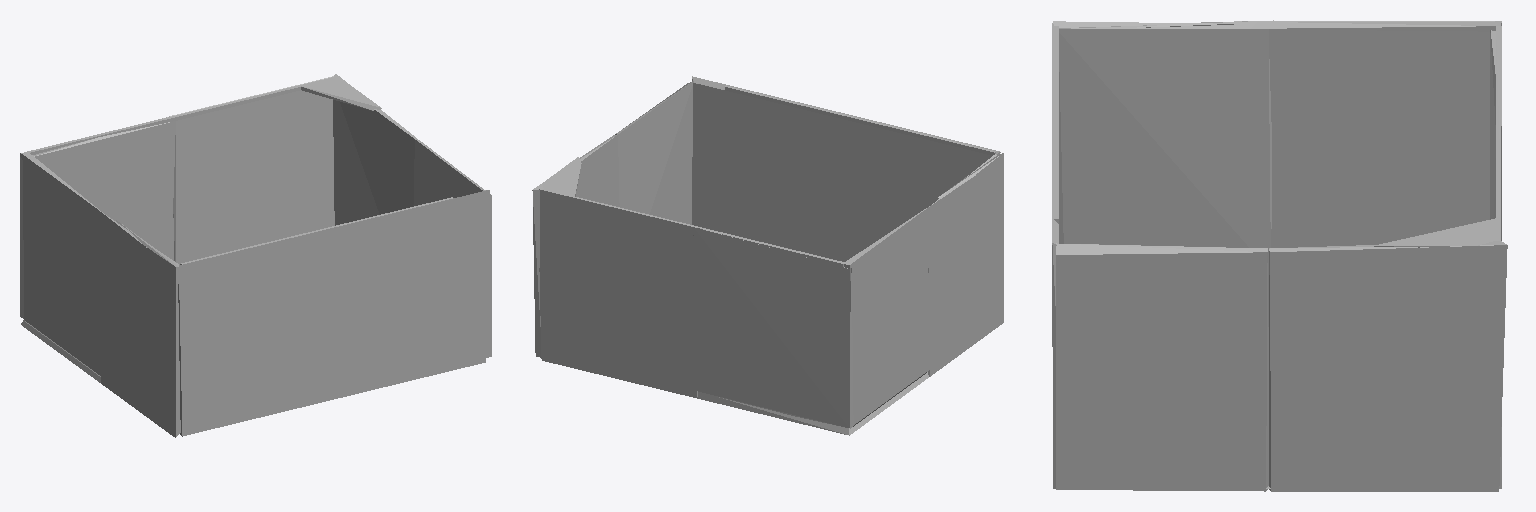
The robot description file, URDF, robot "root":
<robot name="root">
  <link name="link_openbox_convex_piece_0">

    <contact>
      <lateral_friction value="1.0"/>
      <rolling_friction value="0.0"/>
      <inertia_scaling value="3.0"/>
      <contact_cfm value="0.0"/>
      <contact_erp value="1.0"/>
    </contact>

    <inertial>
      <origin rpy="0 0 0" xyz="0 0 0"/>
      <mass value="0"/>
      <inertia ixx="-4.46E-06" ixy="-4.55E-07" ixz="1.95E-06" iyy="-2.47E-06" iyz="8.51E-08" izz="2.17E-06"/>
    </inertial>
    <visual>
      <origin rpy="0 0 0" xyz="0 0 0"/>
      <geometry>
        <mesh filename="openbox_convex_piece_0.obj" scale="1.0000E+00 1.0000E+00 1.0000E+00"/>
      </geometry>
      <material name="">
        <color rgba="7.50E-01 7.50E-01 7.50E-01 1"/>
      </material>
    </visual>
    <collision>
      <origin rpy="0 0 0" xyz="0 0 0"/>
      <geometry>
        <mesh filename="openbox_convex_piece_0.obj" scale="1.0000E+00 1.0000E+00 1.0000E+00"/>
      </geometry>
    </collision>
  </link>
  <link name="link_openbox_convex_piece_1">
    <inertial>
      <origin rpy="0 0 0" xyz="0 0 0"/>
      <mass value="8.54E-11"/>
      <inertia ixx="-3.41E-07" ixy="-9.73E-07" ixz="3.02E-06" iyy="1.82E-07" iyz="-1.06E-06" izz="2.38E-06"/>
    </inertial>
    <visual>
      <origin rpy="0 0 0" xyz="0 0 0"/>
      <geometry>
        <mesh filename="openbox_convex_piece_1.obj" scale="1.0000E+00 1.0000E+00 1.0000E+00"/>
      </geometry>
      <material name="">
        <color rgba="7.50E-01 7.50E-01 7.50E-01 1"/>
      </material>
    </visual>
    <collision>
      <origin rpy="0 0 0" xyz="0 0 0"/>
      <geometry>
        <mesh filename="openbox_convex_piece_1.obj" scale="1.0000E+00 1.0000E+00 1.0000E+00"/>
      </geometry>
    </collision>
  </link>
  <joint name="link_openbox_convex_piece_1_joint" type="fixed">
    <origin rpy="0 0 0" xyz="0 0 0"/>
    <parent link="link_openbox_convex_piece_0"/>
    <child link="link_openbox_convex_piece_1"/>
  </joint>

  <link name="link_openbox_convex_piece_3">
    <inertial>
      <origin rpy="0 0 0" xyz="0 0 0"/>
      <mass value="9.26E-11"/>
      <inertia ixx="6.00E-06" ixy="-7.64E-06" ixz="1.70E-06" iyy="3.52E-06" iyz="-2.53E-07" izz="1.51E-05"/>
    </inertial>
    <visual>
      <origin rpy="0 0 0" xyz="0 0 0"/>
      <geometry>
        <mesh filename="openbox_convex_piece_3.obj" scale="1.0000E+00 1.0000E+00 1.0000E+00"/>
      </geometry>
      <material name="">
        <color rgba="7.50E-01 7.50E-01 7.50E-01 1"/>
      </material>
    </visual>
    <collision>
      <origin rpy="0 0 0" xyz="0 0 0"/>
      <geometry>
        <mesh filename="openbox_convex_piece_3.obj" scale="1.0000E+00 1.0000E+00 1.0000E+00"/>
      </geometry>
    </collision>
  </link>
  <joint name="link_openbox_convex_piece_3_joint" type="fixed">
    <origin rpy="0 0 0" xyz="0 0 0"/>
    <parent link="link_openbox_convex_piece_1"/>
    <child link="link_openbox_convex_piece_3"/>
  </joint>
  <link name="link_openbox_convex_piece_4">
    <inertial>
      <origin rpy="0 0 0" xyz="0 0 0"/>
      <mass value="1.62E-10"/>
      <inertia ixx="1.40E-05" ixy="-7.57E-06" ixz="6.10E-06" iyy="9.20E-07" iyz="-7.28E-06" izz="1.99E-05"/>
    </inertial>
    <visual>
      <origin rpy="0 0 0" xyz="0 0 0"/>
      <geometry>
        <mesh filename="openbox_convex_piece_4.obj" scale="1.0000E+00 1.0000E+00 1.0000E+00"/>
      </geometry>
      <material name="">
        <color rgba="7.50E-01 7.50E-01 7.50E-01 1"/>
      </material>
    </visual>
    <collision>
      <origin rpy="0 0 0" xyz="0 0 0"/>
      <geometry>
        <mesh filename="openbox_convex_piece_4.obj" scale="1.0000E+00 1.0000E+00 1.0000E+00"/>
      </geometry>
    </collision>
  </link>
  <joint name="link_openbox_convex_piece_4_joint" type="fixed">
    <origin rpy="0 0 0" xyz="0 0 0"/>
    <parent link="link_openbox_convex_piece_3"/>
    <child link="link_openbox_convex_piece_4"/>
  </joint>
  <link name="link_openbox_convex_piece_5">
    <inertial>
      <origin rpy="0 0 0" xyz="0 0 0"/>
      <mass value="8.19E-11"/>
      <inertia ixx="-3.14E-07" ixy="8.84E-07" ixz="-1.99E-07" iyy="-5.76E-08" iyz="-1.02E-06" izz="2.07E-06"/>
    </inertial>
    <visual>
      <origin rpy="0 0 0" xyz="0 0 0"/>
      <geometry>
        <mesh filename="openbox_convex_piece_5.obj" scale="1.0000E+00 1.0000E+00 1.0000E+00"/>
      </geometry>
      <material name="">
        <color rgba="7.50E-01 7.50E-01 7.50E-01 1"/>
      </material>
    </visual>
    <collision>
      <origin rpy="0 0 0" xyz="0 0 0"/>
      <geometry>
        <mesh filename="openbox_convex_piece_5.obj" scale="1.0000E+00 1.0000E+00 1.0000E+00"/>
      </geometry>
    </collision>
  </link>
  <joint name="link_openbox_convex_piece_5_joint" type="fixed">
    <origin rpy="0 0 0" xyz="0 0 0"/>
    <parent link="link_openbox_convex_piece_4"/>
    <child link="link_openbox_convex_piece_5"/>
  </joint>
  <link name="link_openbox_convex_piece_6">
    <inertial>
      <origin rpy="0 0 0" xyz="0 0 0"/>
      <mass value="4.02E-12"/>
      <inertia ixx="6.30E-07" ixy="-6.57E-08" ixz="4.44E-08" iyy="-3.40E-08" iyz="2.11E-07" izz="7.64E-07"/>
    </inertial>
    <visual>
      <origin rpy="0 0 0" xyz="0 0 0"/>
      <geometry>
        <mesh filename="openbox_convex_piece_6.obj" scale="1.0000E+00 1.0000E+00 1.0000E+00"/>
      </geometry>
      <material name="">
        <color rgba="7.50E-01 7.50E-01 7.50E-01 1"/>
      </material>
    </visual>
    <collision>
      <origin rpy="0 0 0" xyz="0 0 0"/>
      <geometry>
        <mesh filename="openbox_convex_piece_6.obj" scale="1.0000E+00 1.0000E+00 1.0000E+00"/>
      </geometry>
    </collision>
  </link>
  <joint name="link_openbox_convex_piece_6_joint" type="fixed">
    <origin rpy="0 0 0" xyz="0 0 0"/>
    <parent link="link_openbox_convex_piece_5"/>
    <child link="link_openbox_convex_piece_6"/>
  </joint>
  <link name="link_openbox_convex_piece_7">
    <inertial>
      <origin rpy="0 0 0" xyz="0 0 0"/>
      <mass value="1.64E-10"/>
      <inertia ixx="2.41E-05" ixy="7.88E-06" ixz="2.12E-06" iyy="-2.86E-06" iyz="-1.78E-06" izz="3.10E-05"/>
    </inertial>
    <visual>
      <origin rpy="0 0 0" xyz="0 0 0"/>
      <geometry>
        <mesh filename="openbox_convex_piece_7.obj" scale="1.0000E+00 1.0000E+00 1.0000E+00"/>
      </geometry>
      <material name="">
        <color rgba="7.50E-01 7.50E-01 7.50E-01 1"/>
      </material>
    </visual>
    <collision>
      <origin rpy="0 0 0" xyz="0 0 0"/>
      <geometry>
        <mesh filename="openbox_convex_piece_7.obj" scale="1.0000E+00 1.0000E+00 1.0000E+00"/>
      </geometry>
    </collision>
  </link>
  <joint name="link_openbox_convex_piece_7_joint" type="fixed">
    <origin rpy="0 0 0" xyz="0 0 0"/>
    <parent link="link_openbox_convex_piece_6"/>
    <child link="link_openbox_convex_piece_7"/>
  </joint>
  <link name="link_openbox_convex_piece_8">
    <inertial>
      <origin rpy="0 0 0" xyz="0 0 0"/>
      <mass value="6.57E-12"/>
      <inertia ixx="8.20E-07" ixy="5.85E-07" ixz="2.96E-07" iyy="1.80E-07" iyz="3.11E-07" izz="1.27E-06"/>
    </inertial>
    <visual>
      <origin rpy="0 0 0" xyz="0 0 0"/>
      <geometry>
        <mesh filename="openbox_convex_piece_8.obj" scale="1.0000E+00 1.0000E+00 1.0000E+00"/>
      </geometry>
      <material name="">
        <color rgba="7.50E-01 7.50E-01 7.50E-01 1"/>
      </material>
    </visual>
    <collision>
      <origin rpy="0 0 0" xyz="0 0 0"/>
      <geometry>
        <mesh filename="openbox_convex_piece_8.obj" scale="1.0000E+00 1.0000E+00 1.0000E+00"/>
      </geometry>
    </collision>
  </link>
  <joint name="link_openbox_convex_piece_8_joint" type="fixed">
    <origin rpy="0 0 0" xyz="0 0 0"/>
    <parent link="link_openbox_convex_piece_7"/>
    <child link="link_openbox_convex_piece_8"/>
  </joint>
  <link name="link_openbox_convex_piece_9">
    <inertial>
      <origin rpy="0 0 0" xyz="0 0 0"/>
      <mass value="1.60E-10"/>
      <inertia ixx="-3.20E-06" ixy="-3.40E-06" ixz="3.28E-06" iyy="5.91E-06" iyz="-2.59E-07" izz="1.23E-05"/>
    </inertial>
    <visual>
      <origin rpy="0 0 0" xyz="0 0 0"/>
      <geometry>
        <mesh filename="openbox_convex_piece_9.obj" scale="1.0000E+00 1.0000E+00 1.0000E+00"/>
      </geometry>
      <material name="">
        <color rgba="7.50E-01 7.50E-01 7.50E-01 1"/>
      </material>
    </visual>
    <collision>
      <origin rpy="0 0 0" xyz="0 0 0"/>
      <geometry>
        <mesh filename="openbox_convex_piece_9.obj" scale="1.0000E+00 1.0000E+00 1.0000E+00"/>
      </geometry>
    </collision>
  </link>
  <joint name="link_openbox_convex_piece_9_joint" type="fixed">
    <origin rpy="0 0 0" xyz="0 0 0"/>
    <parent link="link_openbox_convex_piece_8"/>
    <child link="link_openbox_convex_piece_9"/>
  </joint>
  <link name="link_openbox_convex_piece_10">
    <inertial>
      <origin rpy="0 0 0" xyz="0 0 0"/>
      <mass value="3.92E-12"/>
      <inertia ixx="-7.91E-08" ixy="3.61E-09" ixz="4.47E-08" iyy="-3.50E-08" iyz="-1.25E-08" izz="4.93E-08"/>
    </inertial>
    <visual>
      <origin rpy="0 0 0" xyz="0 0 0"/>
      <geometry>
        <mesh filename="openbox_convex_piece_10.obj" scale="1.0000E+00 1.0000E+00 1.0000E+00"/>
      </geometry>
      <material name="">
        <color rgba="7.50E-01 7.50E-01 7.50E-01 1"/>
      </material>
    </visual>
    <collision>
      <origin rpy="0 0 0" xyz="0 0 0"/>
      <geometry>
        <mesh filename="openbox_convex_piece_10.obj" scale="1.0000E+00 1.0000E+00 1.0000E+00"/>
      </geometry>
    </collision>
  </link>
  <joint name="link_openbox_convex_piece_10_joint" type="fixed">
    <origin rpy="0 0 0" xyz="0 0 0"/>
    <parent link="link_openbox_convex_piece_9"/>
    <child link="link_openbox_convex_piece_10"/>
  </joint>

  <link name="link_openbox_convex_piece_12">
    <inertial>
      <origin rpy="0 0 0" xyz="0 0 0"/>
      <mass value="3.17E-12"/>
      <inertia ixx="2.64E-07" ixy="-2.72E-07" ixz="-5.69E-08" iyy="1.47E-07" iyz="1.24E-07" izz="5.44E-07"/>
    </inertial>
    <visual>
      <origin rpy="0 0 0" xyz="0 0 0"/>
      <geometry>
        <mesh filename="openbox_convex_piece_12.obj" scale="1.0000E+00 1.0000E+00 1.0000E+00"/>
      </geometry>
      <material name="">
        <color rgba="7.50E-01 7.50E-01 7.50E-01 1"/>
      </material>
    </visual>
    <collision>
      <origin rpy="0 0 0" xyz="0 0 0"/>
      <geometry>
        <mesh filename="openbox_convex_piece_12.obj" scale="1.0000E+00 1.0000E+00 1.0000E+00"/>
      </geometry>
    </collision>
  </link>
  <joint name="link_openbox_convex_piece_12_joint" type="fixed">
    <origin rpy="0 0 0" xyz="0 0 0"/>
    <parent link="link_openbox_convex_piece_10"/>
    <child link="link_openbox_convex_piece_12"/>
  </joint>
  <link name="link_openbox_convex_piece_13">
    <inertial>
      <origin rpy="0 0 0" xyz="0 0 0"/>
      <mass value="9.40E-11"/>
      <inertia ixx="7.54E-06" ixy="3.20E-06" ixz="-7.45E-08" iyy="-2.50E-07" iyz="-4.14E-06" izz="1.01E-05"/>
    </inertial>
    <visual>
      <origin rpy="0 0 0" xyz="0 0 0"/>
      <geometry>
        <mesh filename="openbox_convex_piece_13.obj" scale="1.0000E+00 1.0000E+00 1.0000E+00"/>
      </geometry>
      <material name="">
        <color rgba="7.50E-01 7.50E-01 7.50E-01 1"/>
      </material>
    </visual>
    <collision>
      <origin rpy="0 0 0" xyz="0 0 0"/>
      <geometry>
        <mesh filename="openbox_convex_piece_13.obj" scale="1.0000E+00 1.0000E+00 1.0000E+00"/>
      </geometry>
    </collision>
  </link>
  <joint name="link_openbox_convex_piece_13_joint" type="fixed">
    <origin rpy="0 0 0" xyz="0 0 0"/>
    <parent link="link_openbox_convex_piece_12"/>
    <child link="link_openbox_convex_piece_13"/>
  </joint>
  <link name="link_openbox_convex_piece_14">
    <inertial>
      <origin rpy="0 0 0" xyz="0 0 0"/>
      <mass value="1.27E-12"/>
      <inertia ixx="-2.15E-08" ixy="-1.57E-08" ixz="-2.27E-08" iyy="5.93E-08" iyz="7.09E-09" izz="9.09E-08"/>
    </inertial>
    <visual>
      <origin rpy="0 0 0" xyz="0 0 0"/>
      <geometry>
        <mesh filename="openbox_convex_piece_14.obj" scale="1.0000E+00 1.0000E+00 1.0000E+00"/>
      </geometry>
      <material name="">
        <color rgba="7.50E-01 7.50E-01 7.50E-01 1"/>
      </material>
    </visual>
    <collision>
      <origin rpy="0 0 0" xyz="0 0 0"/>
      <geometry>
        <mesh filename="openbox_convex_piece_14.obj" scale="1.0000E+00 1.0000E+00 1.0000E+00"/>
      </geometry>
    </collision>
  </link>
  <joint name="link_openbox_convex_piece_14_joint" type="fixed">
    <origin rpy="0 0 0" xyz="0 0 0"/>
    <parent link="link_openbox_convex_piece_13"/>
    <child link="link_openbox_convex_piece_14"/>
  </joint>

  <link name="link_openbox_convex_piece_16">
    <inertial>
      <origin rpy="0 0 0" xyz="0 0 0"/>
      <mass value="1.53E-10"/>
      <inertia ixx="2.24E-05" ixy="-1.01E-05" ixz="2.64E-06" iyy="-1.08E-06" iyz="-5.41E-07" izz="3.07E-05"/>
    </inertial>
    <visual>
      <origin rpy="0 0 0" xyz="0 0 0"/>
      <geometry>
        <mesh filename="openbox_convex_piece_16.obj" scale="1.0000E+00 1.0000E+00 1.0000E+00"/>
      </geometry>
      <material name="">
        <color rgba="7.50E-01 7.50E-01 7.50E-01 1"/>
      </material>
    </visual>
    <collision>
      <origin rpy="0 0 0" xyz="0 0 0"/>
      <geometry>
        <mesh filename="openbox_convex_piece_16.obj" scale="1.0000E+00 1.0000E+00 1.0000E+00"/>
      </geometry>
    </collision>
  </link>
  <joint name="link_openbox_convex_piece_16_joint" type="fixed">
    <origin rpy="0 0 0" xyz="0 0 0"/>
    <parent link="link_openbox_convex_piece_14"/>
    <child link="link_openbox_convex_piece_16"/>
  </joint>
  <link name="link_openbox_convex_piece_17">
    <inertial>
      <origin rpy="0 0 0" xyz="0 0 0"/>
      <mass value="1.72E-10"/>
      <inertia ixx="1.25E-05" ixy="1.36E-05" ixz="2.06E-06" iyy="4.64E-06" iyz="-7.63E-07" izz="2.75E-05"/>
    </inertial>
    <visual>
      <origin rpy="0 0 0" xyz="0 0 0"/>
      <geometry>
        <mesh filename="openbox_convex_piece_17.obj" scale="1.0000E+00 1.0000E+00 1.0000E+00"/>
      </geometry>
      <material name="">
        <color rgba="7.50E-01 7.50E-01 7.50E-01 1"/>
      </material>
    </visual>
    <collision>
      <origin rpy="0 0 0" xyz="0 0 0"/>
      <geometry>
        <mesh filename="openbox_convex_piece_17.obj" scale="1.0000E+00 1.0000E+00 1.0000E+00"/>
      </geometry>
    </collision>
  </link>
  <joint name="link_openbox_convex_piece_17_joint" type="fixed">
    <origin rpy="0 0 0" xyz="0 0 0"/>
    <parent link="link_openbox_convex_piece_16"/>
    <child link="link_openbox_convex_piece_17"/>
  </joint>
  <link name="link_openbox_convex_piece_18">
    <inertial>
      <origin rpy="0 0 0" xyz="0 0 0"/>
      <mass value="1.50E-10"/>
      <inertia ixx="-3.07E-06" ixy="2.96E-06" ixz="1.70E-06" iyy="4.03E-06" iyz="-2.62E-07" izz="1.00E-05"/>
    </inertial>
    <visual>
      <origin rpy="0 0 0" xyz="0 0 0"/>
      <geometry>
        <mesh filename="openbox_convex_piece_18.obj" scale="1.0000E+00 1.0000E+00 1.0000E+00"/>
      </geometry>
      <material name="">
        <color rgba="7.50E-01 7.50E-01 7.50E-01 1"/>
      </material>
    </visual>
    <collision>
      <origin rpy="0 0 0" xyz="0 0 0"/>
      <geometry>
        <mesh filename="openbox_convex_piece_18.obj" scale="1.0000E+00 1.0000E+00 1.0000E+00"/>
      </geometry>
    </collision>
  </link>
  <joint name="link_openbox_convex_piece_18_joint" type="fixed">
    <origin rpy="0 0 0" xyz="0 0 0"/>
    <parent link="link_openbox_convex_piece_17"/>
    <child link="link_openbox_convex_piece_18"/>
  </joint>
  <link name="link_openbox_convex_piece_19">
    <inertial>
      <origin rpy="0 0 0" xyz="0 0 0"/>
      <mass value="1.64E-10"/>
      <inertia ixx="-4.77E-06" ixy="5.27E-07" ixz="3.18E-06" iyy="-2.10E-06" iyz="9.12E-08" izz="2.87E-06"/>
    </inertial>
    <visual>
      <origin rpy="0 0 0" xyz="0 0 0"/>
      <geometry>
        <mesh filename="openbox_convex_piece_19.obj" scale="1.0000E+00 1.0000E+00 1.0000E+00"/>
      </geometry>
      <material name="">
        <color rgba="7.50E-01 7.50E-01 7.50E-01 1"/>
      </material>
    </visual>
    <collision>
      <origin rpy="0 0 0" xyz="0 0 0"/>
      <geometry>
        <mesh filename="openbox_convex_piece_19.obj" scale="1.0000E+00 1.0000E+00 1.0000E+00"/>
      </geometry>
    </collision>
  </link>
  <joint name="link_openbox_convex_piece_19_joint" type="fixed">
    <origin rpy="0 0 0" xyz="0 0 0"/>
    <parent link="link_openbox_convex_piece_18"/>
    <child link="link_openbox_convex_piece_19"/>
  </joint>
</robot>

--- What the picture shows (computed from the rendered views, not written in the file) ---
3 views of the same robot in one strip: view 1: azimuth 30°, elevation 25°; view 2: azimuth 150°, elevation 25°; view 3: azimuth 270°, elevation 25° (orthographic).
Robot: root — 17 links, 16 joints (16 fixed); root link link_openbox_convex_piece_0; default pose: all joints at 0.
Visible links, largest first — view 1: link_openbox_convex_piece_19, link_openbox_convex_piece_0, link_openbox_convex_piece_7, link_openbox_convex_piece_9, link_openbox_convex_piece_3, link_openbox_convex_piece_16, link_openbox_convex_piece_17, link_openbox_convex_piece_18, link_openbox_convex_piece_6, link_openbox_convex_piece_8; view 2: link_openbox_convex_piece_7, link_openbox_convex_piece_16, link_openbox_convex_piece_0, link_openbox_convex_piece_3, link_openbox_convex_piece_9, link_openbox_convex_piece_19, link_openbox_convex_piece_18, link_openbox_convex_piece_17, link_openbox_convex_piece_4, link_openbox_convex_piece_10, link_openbox_convex_piece_8, link_openbox_convex_piece_6; view 3: link_openbox_convex_piece_17, link_openbox_convex_piece_18, link_openbox_convex_piece_9, link_openbox_convex_piece_3, link_openbox_convex_piece_12, link_openbox_convex_piece_8, link_openbox_convex_piece_10, link_openbox_convex_piece_0, link_openbox_convex_piece_16, link_openbox_convex_piece_6, link_openbox_convex_piece_14.
Link boxes in pixels (x1,y1,x2,y2): link_openbox_convex_piece_19: [178, 227, 342, 436]; link_openbox_convex_piece_0: [336, 190, 489, 397]; link_openbox_convex_piece_7: [172, 76, 334, 264]; link_openbox_convex_piece_9: [99, 211, 180, 437]; link_openbox_convex_piece_3: [22, 154, 100, 376]; link_openbox_convex_piece_16: [20, 115, 175, 318]; link_openbox_convex_piece_17: [331, 74, 416, 225]; link_openbox_convex_piece_18: [413, 139, 491, 357]; link_openbox_convex_piece_6: [26, 85, 300, 154]; link_openbox_convex_piece_8: [299, 78, 381, 110]; link_openbox_convex_piece_7: [539, 189, 699, 397]; link_openbox_convex_piece_16: [693, 227, 850, 427]; link_openbox_convex_piece_0: [692, 76, 843, 259]; link_openbox_convex_piece_3: [850, 208, 928, 428]; link_openbox_convex_piece_9: [928, 154, 1003, 376]; link_openbox_convex_piece_19: [836, 113, 1000, 261]; link_openbox_convex_piece_18: [615, 81, 693, 224]; link_openbox_convex_piece_17: [532, 135, 619, 357]; link_openbox_convex_piece_4: [697, 372, 928, 435]; link_openbox_convex_piece_10: [725, 85, 995, 155]; link_openbox_convex_piece_8: [543, 157, 581, 197]; link_openbox_convex_piece_6: [575, 197, 843, 266]; link_openbox_convex_piece_17: [1269, 241, 1507, 491]; link_openbox_convex_piece_18: [1056, 243, 1268, 491]; link_openbox_convex_piece_9: [1059, 20, 1273, 248]; link_openbox_convex_piece_3: [1269, 21, 1494, 247]; link_openbox_convex_piece_12: [1234, 21, 1501, 31]; link_openbox_convex_piece_8: [1374, 217, 1500, 247]; link_openbox_convex_piece_10: [1053, 26, 1058, 223]; link_openbox_convex_piece_0: [1052, 134, 1060, 488]; link_openbox_convex_piece_16: [1490, 30, 1501, 219]; link_openbox_convex_piece_6: [1496, 24, 1501, 217]; link_openbox_convex_piece_14: [1053, 21, 1233, 27].
Bounding box of the posed robot: 536 × 459 × 277 m (x, y, z).
Meshes: 17 distinct files referenced, 17 mesh visuals loaded (17 OBJ).